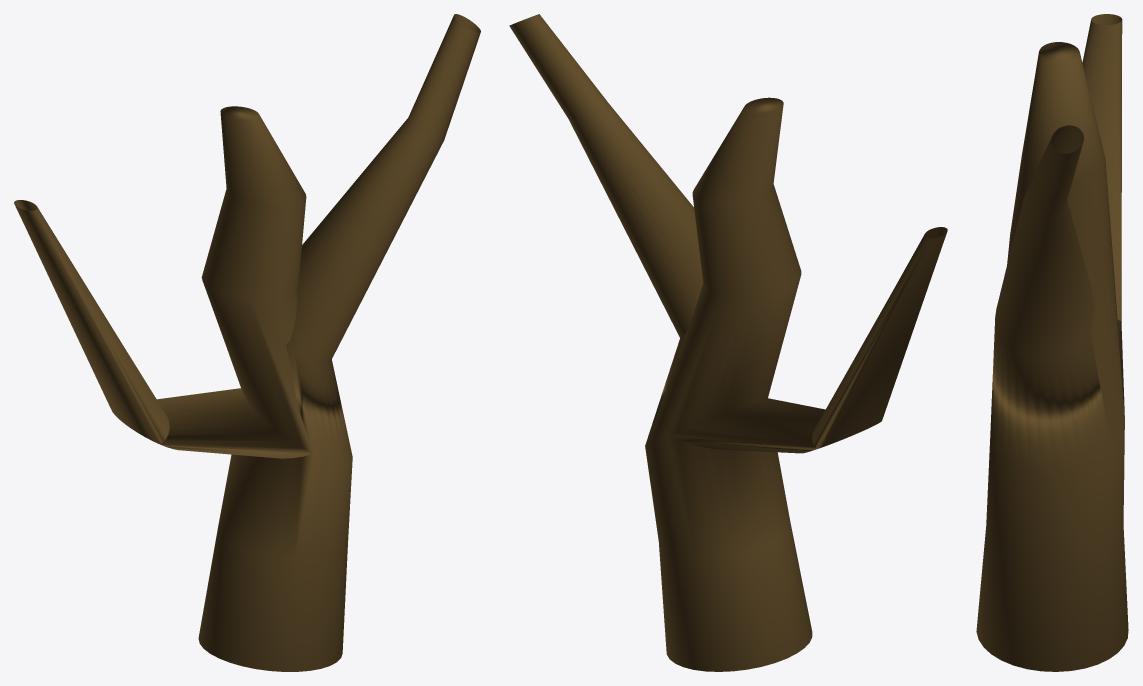
The model's file is ArvoresText01.fbx.
The picture shows the model from 3 angles, left to right: view 1: azimuth 30°, elevation 25°; view 2: azimuth 150°, elevation 25°; view 3: azimuth 270°, elevation 25°; orthographic projection. The views are drawn at different scales.
Visible parts, largest first — view 1: Cylinder.001; view 2: Cylinder.001; view 3: Cylinder.001.
Boxes of the visible parts, <box> form: Cylinder.001: <box>14,14,480,671</box>; Cylinder.001: <box>509,14,947,671</box>; Cylinder.001: <box>976,14,1128,671</box>.
Bounding box in the file's own units: 0.9959 × 0.2813 × 1.25.
